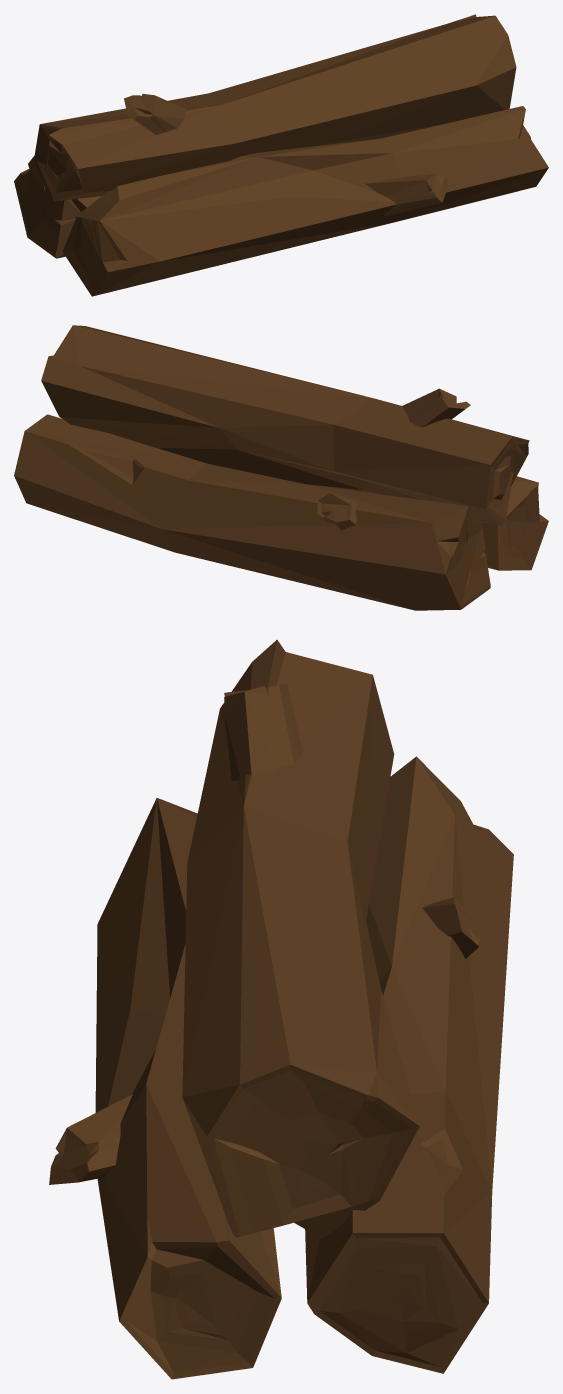
The model's file is tree-oak-log-pile-a.gltf.
3 renders of one model, top to bottom at view 1: azimuth 30°, elevation 25°; view 2: azimuth 150°, elevation 25°; view 3: azimuth 270°, elevation 25°, orthographic. The views are drawn at different scales.
Parts seen in each view (by area): view 1: tree-oak-log-pile-a; view 2: tree-oak-log-pile-a; view 3: tree-oak-log-pile-a.
Part boxes in pixels (x1,y1,x2,y2): tree-oak-log-pile-a: (14,14,548,296); tree-oak-log-pile-a: (14,325,548,610); tree-oak-log-pile-a: (49,640,513,1379).
Bounding box in the file's own units: 0.0305 × 0.0112 × 0.0133.
